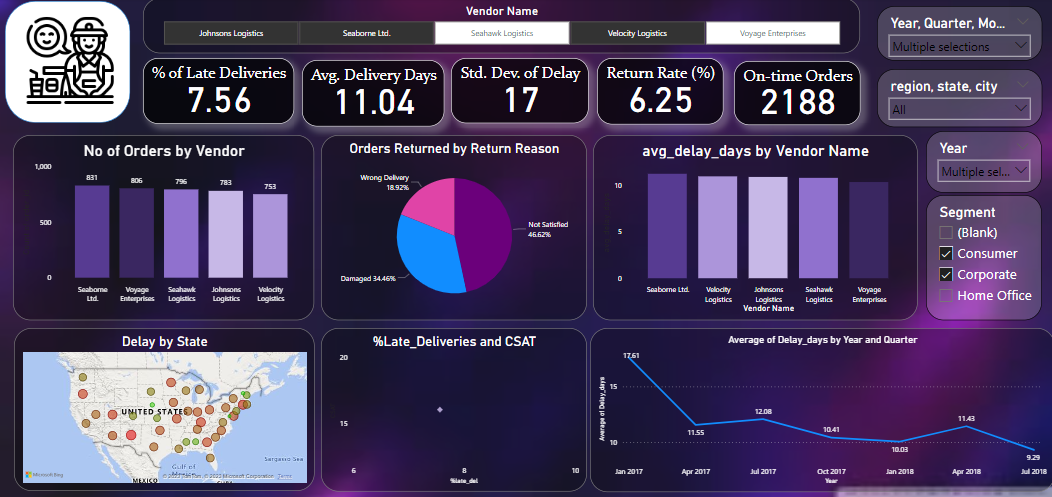

Layout of this report page (visuals, bound fields, positions):
{"tool":"powerbi","page":{"name":"final","canvas":[1800,850],"ordinal":0},"visuals":[{"type":"card","title":"% of Late Deliveries","fields":{"Values":["orders.%late_del"]},"box":[250.5,102,256.5,112],"z":0},{"type":"card","title":"Avg. Delivery Days","fields":{"Values":["customer_reviews.Average of Delay_days average per vendor_id"]},"box":[519.7,104.9,242.4,113.4],"z":1000},{"type":"card","title":"Std. Dev. of Delay","fields":{"Values":["customer_reviews.Standard deviation of Delay_days for Late"]},"box":[773.4,102,233.9,110.6],"z":2000},{"type":"card","title":"Return Rate (%)","fields":{"Values":["customer_reviews.return_rate_p"]},"box":[1021.5,102,215.4,113.4],"z":3000},{"type":"slicer","title":"Year","fields":{"Values":["orders.order_delivered_customer_date.Variation.Date Hierarchy.Year"]},"box":[1581.3,226.5,197.4,104.5],"z":4000},{"type":"map","title":"Delay by State","fields":{"Category":["customers.state"],"Size":["Avg(orders.Delay_days)"]},"box":[31,561.3,511,276.8],"z":5000},{"type":"pieChart","title":"Orders Returned by Return Reason","fields":{"Category":["returns.return_reason"],"Y":["CountNonNull(returns.order_id)"]},"box":[552.2,232.6,451.8,314.6],"z":6000},{"type":"slicer","title":"Vendor Name","fields":{"Values":["vendors.Vendor Name"]},"box":[250.5,0,1218.9,93.5],"z":7000},{"type":"card","title":"On-time Orders","fields":{"Values":["customer_reviews.on/early_deliveries"]},"box":[1253.9,106.3,215.4,109.1],"z":8000},{"type":"columnChart","title":"No of Orders by Vendor","fields":{"Y":["CountNonNull(orders.order_id)"],"Category":["vendors.Vendor Name"]},"box":[28.4,232.6,512,314.6],"z":9000},{"type":"slicer","fields":{"Values":["orders.Year","orders.Quarter","orders.Month"]},"box":[1498.1,13.5,280.6,92.9],"z":10000},{"type":"slicer","fields":{"Values":["customers.region","customers.state","customers.city"]},"box":[1498.1,120,280.6,98.7],"z":11000},{"type":"slicer","fields":{"Values":["customers.segment"]},"box":[1581.3,334.8,197.4,212.9],"z":12000},{"type":"scatterChart","title":"%Late_Deliveries and CSAT","fields":{"X":["orders.%late_del"],"Y":["customer_reviews.CSAT"]},"box":[552.2,560.5,451.8,277.8],"z":13000},{"type":"columnChart","fields":{"Category":["vendors.Vendor Name"],"Y":["customer_reviews.avg_delay_days"]},"box":[1014.2,232.3,551.6,315.5],"z":14000},{"type":"lineChart","fields":{"Y":["Avg(orders.Delay_days)"],"Category":["orders.order_delivered_customer_date.Variation.Date Hierarchy.Year","orders.order_delivered_customer_date.Variation.Date Hierarchy.Quarter"]},"box":[1010.3,561.3,789.7,278.7],"z":15000},{"type":"shape","box":[15.5,5.8,212.9,207.1],"z":16000},{"type":"image","box":[0,21.3,251.6,168.4],"z":17000}]}

Visuals, with their boxes in screenshot pixels (x1, y1, x2, y2), scaled from the page's 1800x850 canvas onto the 1052x497 screenshot:
"% of Late Deliveries" card: [146,60,296,125]
"Avg. Delivery Days" card: [304,61,445,128]
"Std. Dev. of Delay" card: [452,60,589,124]
"Return Rate (%)" card: [597,60,723,126]
"Year" slicer: [924,132,1040,194]
"Delay by State" map: [18,328,317,490]
"Orders Returned by Return Reason" pieChart: [323,136,587,320]
"Vendor Name" slicer: [146,0,859,55]
"On-time Orders" card: [733,62,859,126]
"No of Orders by Vendor" columnChart: [17,136,316,320]
slicer - orders.Year x orders.Quarter: [876,8,1040,62]
slicer - customers.region x customers.state: [876,70,1040,128]
slicer - customers.segment: [924,196,1040,320]
"%Late_Deliveries and CSAT" scatterChart: [323,328,587,490]
columnChart - vendors.Vendor Name x customer_reviews.avg_delay_days: [593,136,915,320]
lineChart - Avg(orders.Delay_days) x orders.order_delivered_customer_date.Variation.Date Hierarchy.Year: [590,328,1051,491]
shape: [9,3,133,124]
image: [0,12,147,111]
